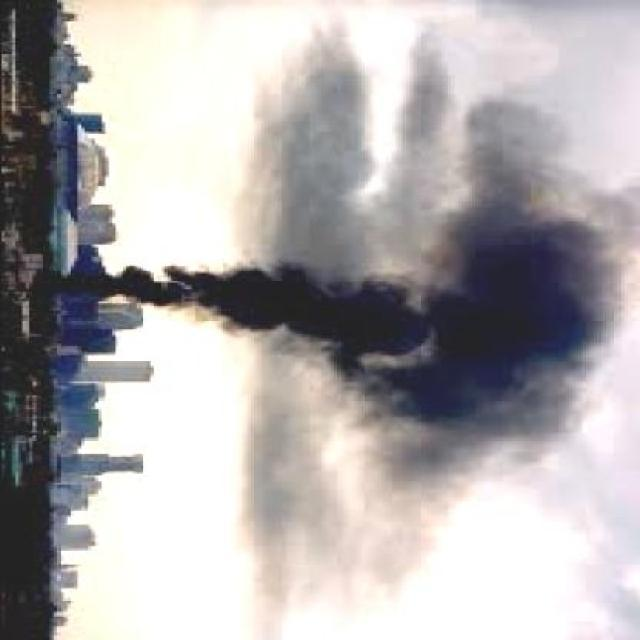Smoke: (55, 100, 632, 478)
